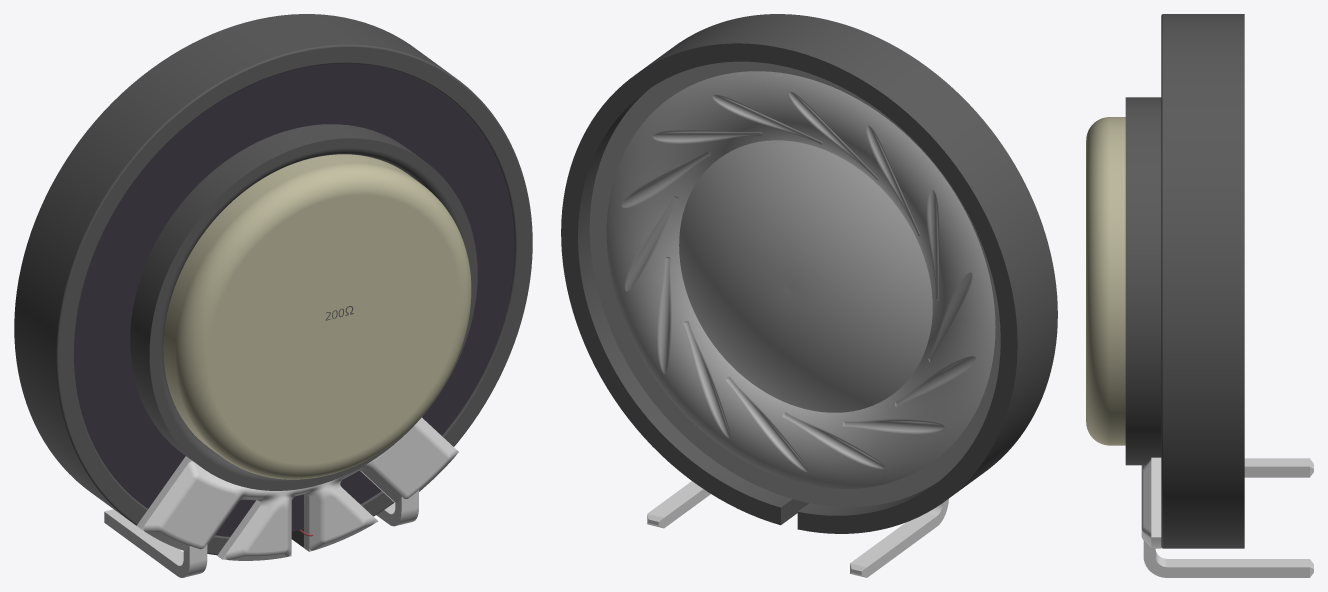
The model's file is ZX Spectrum Speaker 200ohm.obj.
3 renders of one model, left to right at view 1: azimuth 30°, elevation 25°; view 2: azimuth 150°, elevation 25°; view 3: azimuth 270°, elevation 25°, orthographic. The views are drawn at different scales.
Visible parts, largest first — view 1: Body2, Body1, Foam, Body2:1, Body2:2, Body1:1, Body1:2; view 2: Body1:3, Body1, Body2:3, Body2:2, Body1:2; view 3: Body1, Body2, Body1:2, Body2:2, Body1:1, Body2:1.
Part boxes in pixels (x1=…): Body2: x1=163, y1=154, x2=471, y2=479; Body1: x1=14, y1=14, x2=532, y2=555; Foam: x1=74, y1=63, x2=514, y2=536; Body2:1: x1=143, y1=417, x2=457, y2=560; Body2:2: x1=104, y1=509, x2=207, y2=577; Body1:1: x1=136, y1=450, x2=458, y2=560; Body1:2: x1=376, y1=490, x2=418, y2=526; Body1:3: x1=606, y1=71, x2=995, y2=488; Body1: x1=561, y1=14, x2=1057, y2=533; Body2:3: x1=589, y1=61, x2=1000, y2=507; Body2:2: x1=850, y1=499, x2=948, y2=577; Body1:2: x1=647, y1=481, x2=710, y2=528; Body1: x1=1125, y1=14, x2=1244, y2=548; Body2: x1=1086, y1=117, x2=1125, y2=445; Body1:2: x1=1143, y1=540, x2=1313, y2=577; Body2:2: x1=1244, y1=458, x2=1313, y2=477; Body1:1: x1=1151, y1=457, x2=1161, y2=548; Body2:1: x1=1141, y1=459, x2=1151, y2=547.
Size of the model in its own units: 27 by 27 by 11.5.
